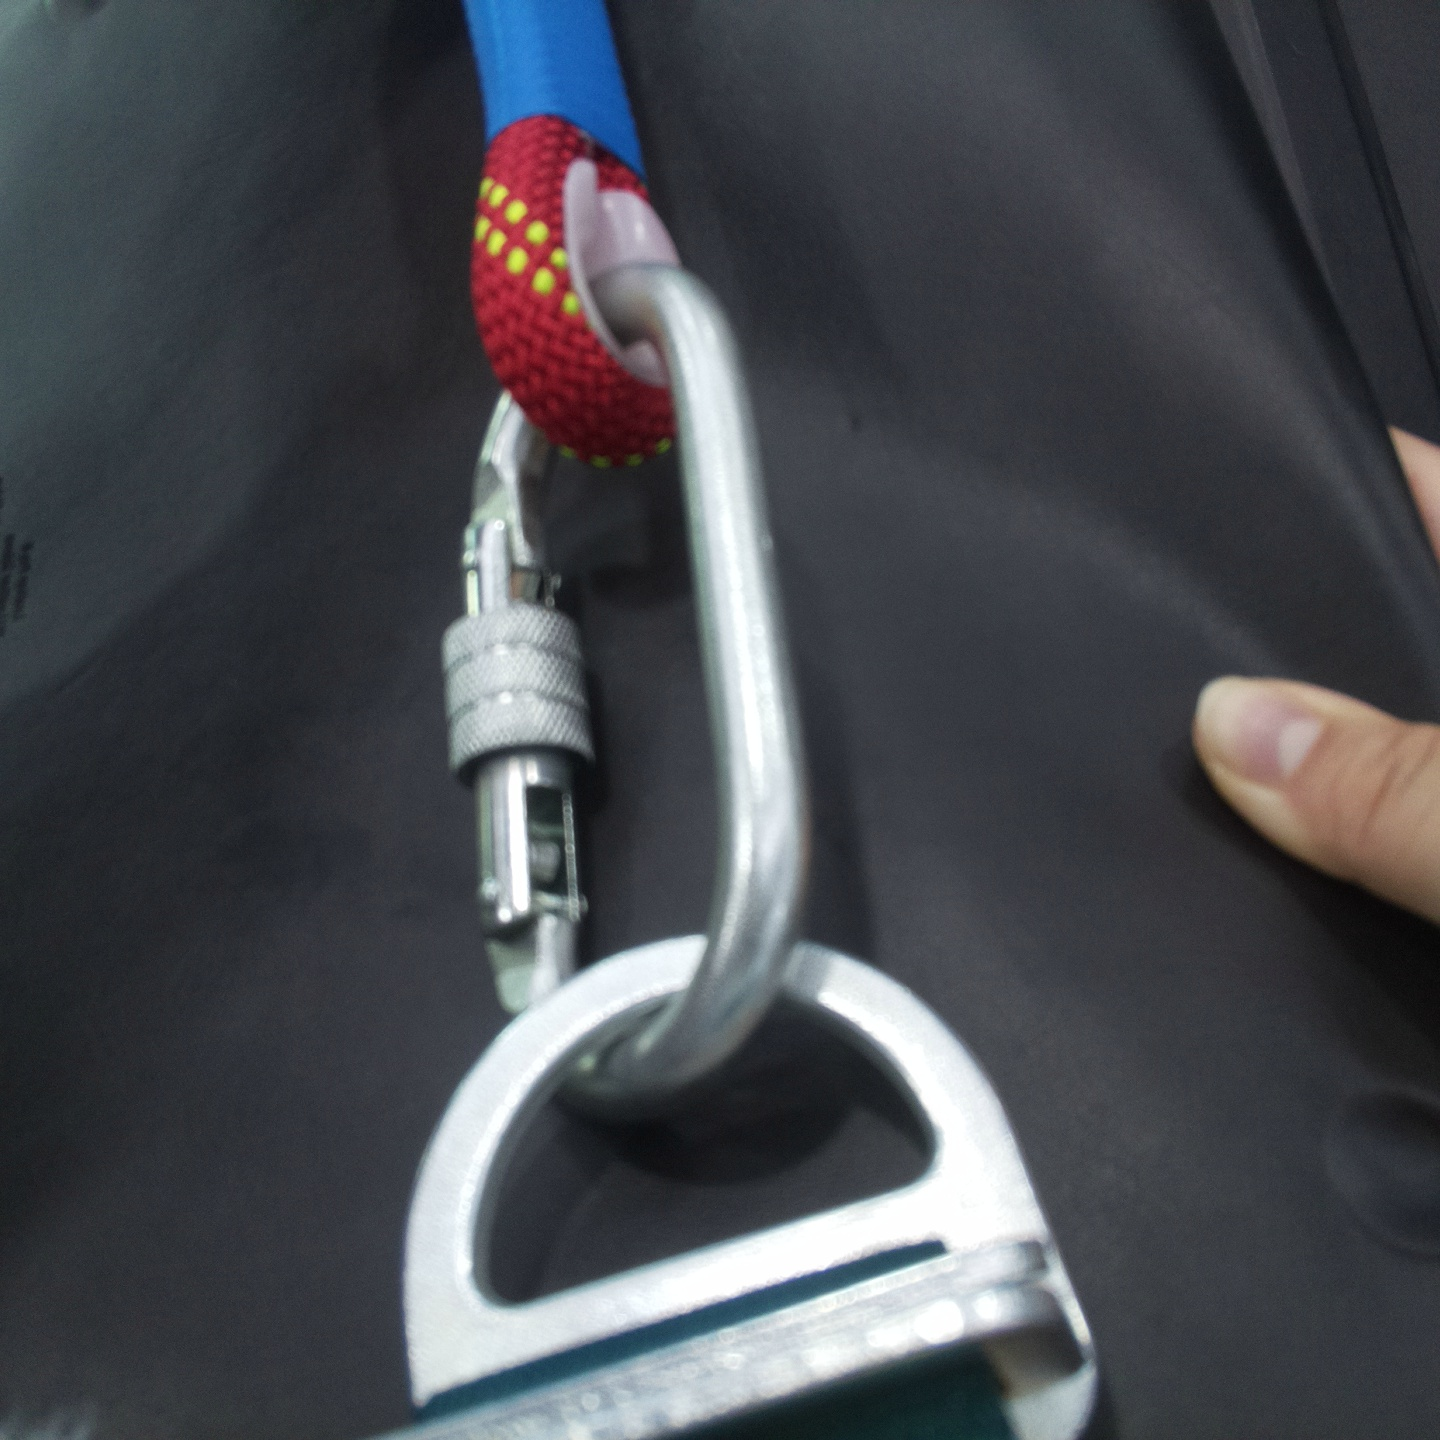SUCCESS: (313, 676, 1058, 1331)
